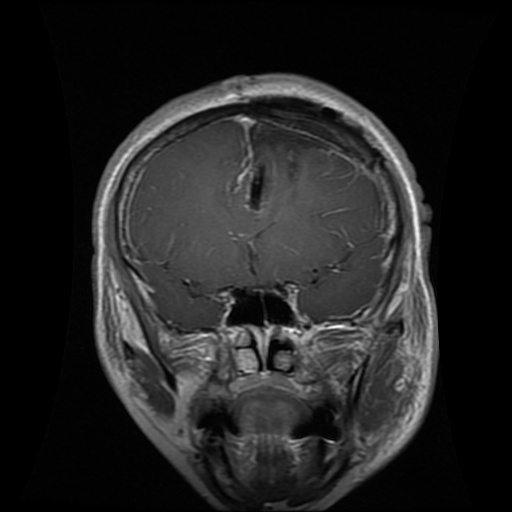glioma: (245, 123, 333, 216)
